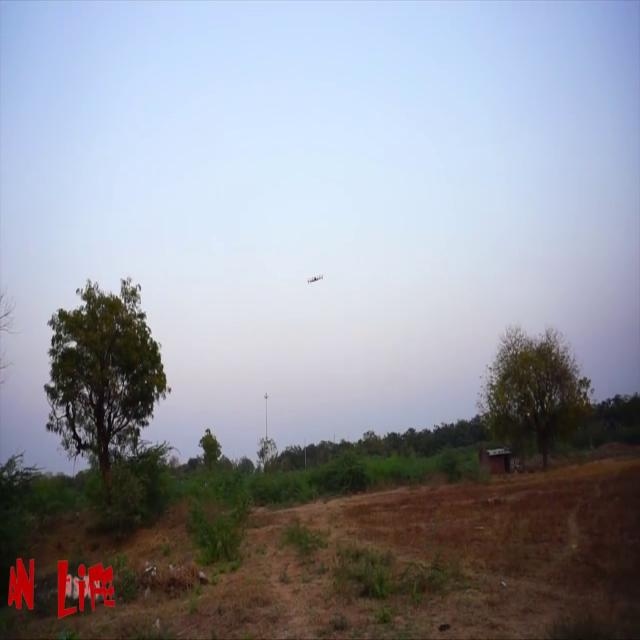drone: (307, 267, 327, 298)
